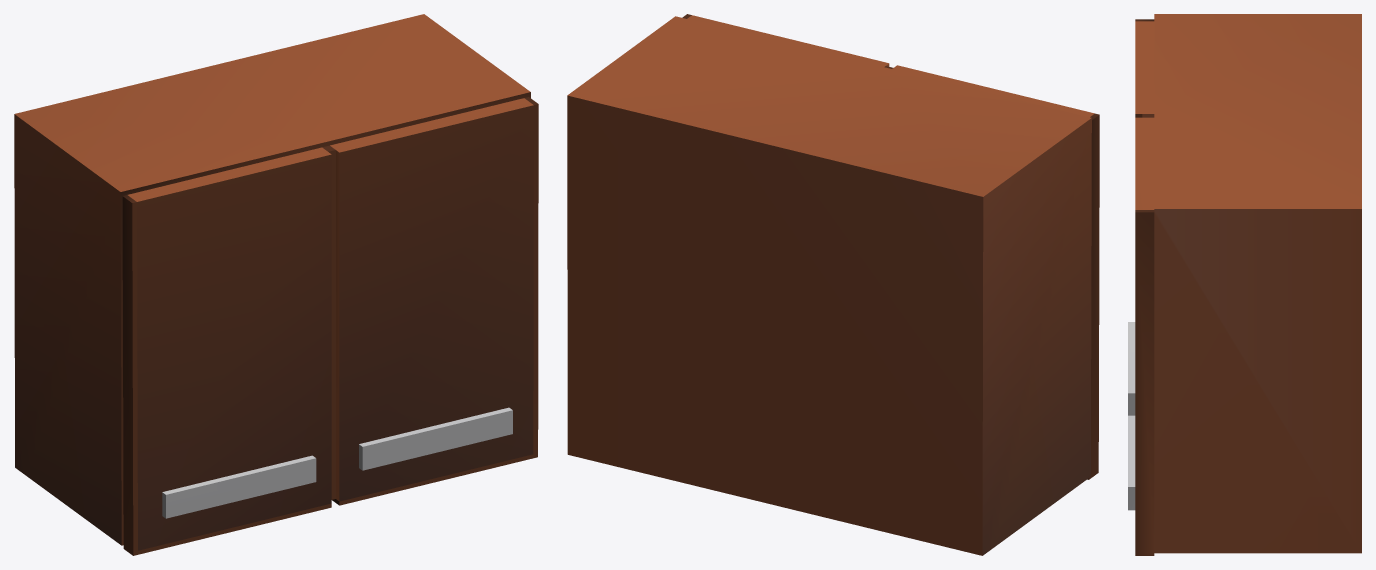
Rendered from TopTable.fbx.
3 renders of one model, left to right at view 1: azimuth 30°, elevation 25°; view 2: azimuth 150°, elevation 25°; view 3: azimuth 270°, elevation 25°, orthographic. The views are drawn at different scales.
Parts seen in each view (by area): view 1: Cube.015, Cube.014; view 2: Cube.015; view 3: Cube.015, Cube.014.
Part boxes in pixels (x1,y1,x2,y2): Cube.015: [14, 14, 538, 555]; Cube.014: [162, 407, 512, 518]; Cube.015: [567, 14, 1099, 555]; Cube.015: [1135, 14, 1361, 555]; Cube.014: [1128, 322, 1135, 510].
Bounding box in the file's own units: 111 × 92.46 × 56.29.
